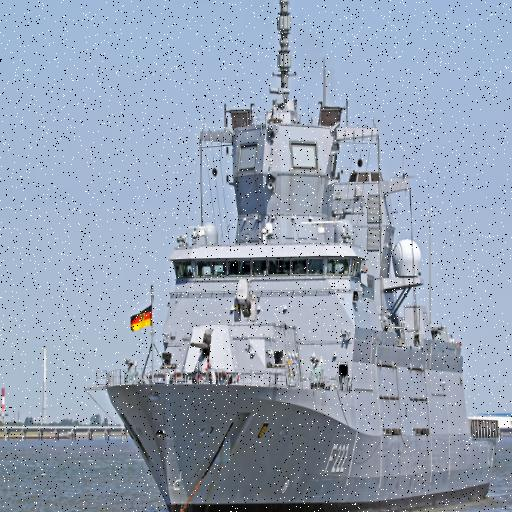Fragata: (88, 1, 507, 512)
